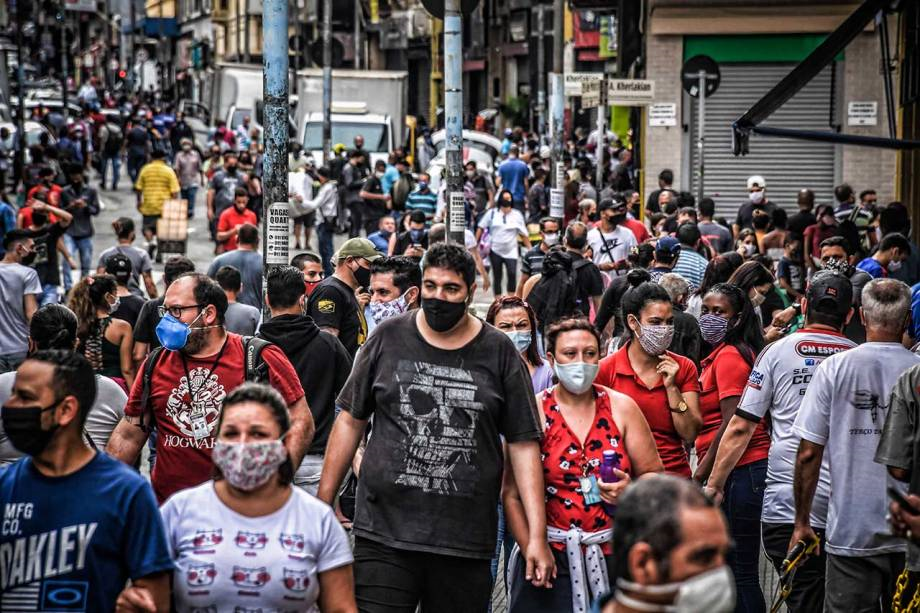mask_weared_incorrect: (378, 217, 394, 239)
with_mask: (3, 359, 90, 449), (211, 399, 287, 491), (157, 280, 221, 357), (421, 254, 477, 333), (547, 330, 603, 395), (626, 299, 676, 357), (489, 305, 538, 356), (698, 296, 744, 346)
